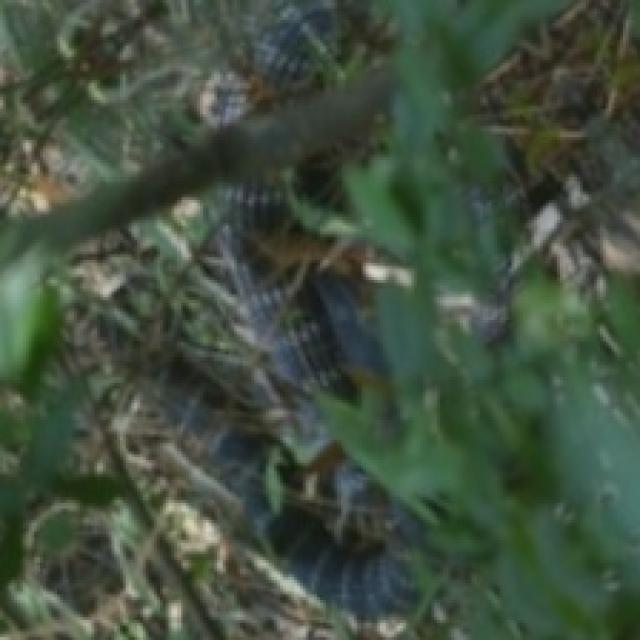king cobra: (154, 103, 431, 637), (177, 0, 394, 126)
